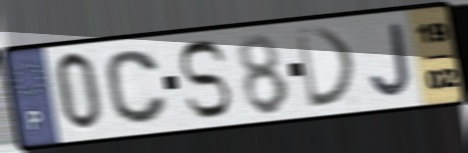0: (52, 48, 106, 137)
8: (236, 32, 292, 116)
C: (102, 48, 170, 127)
D: (293, 25, 360, 111)
J: (367, 20, 415, 100)
S: (175, 38, 234, 122)
